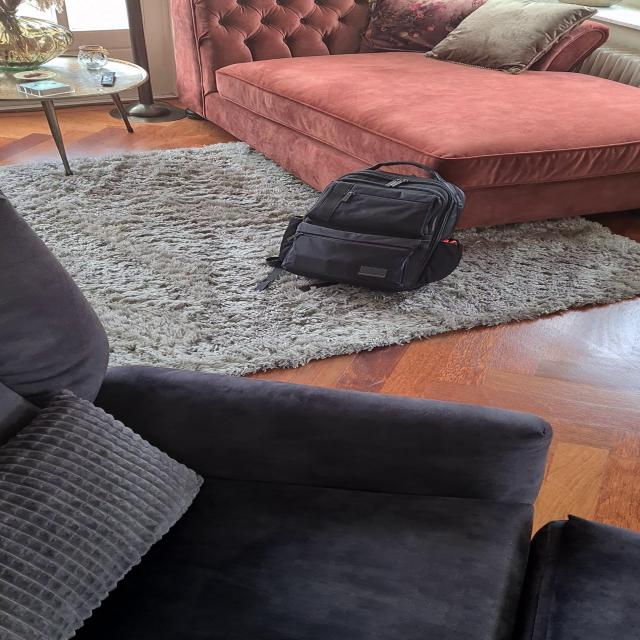backpack: (264, 157, 474, 297)
